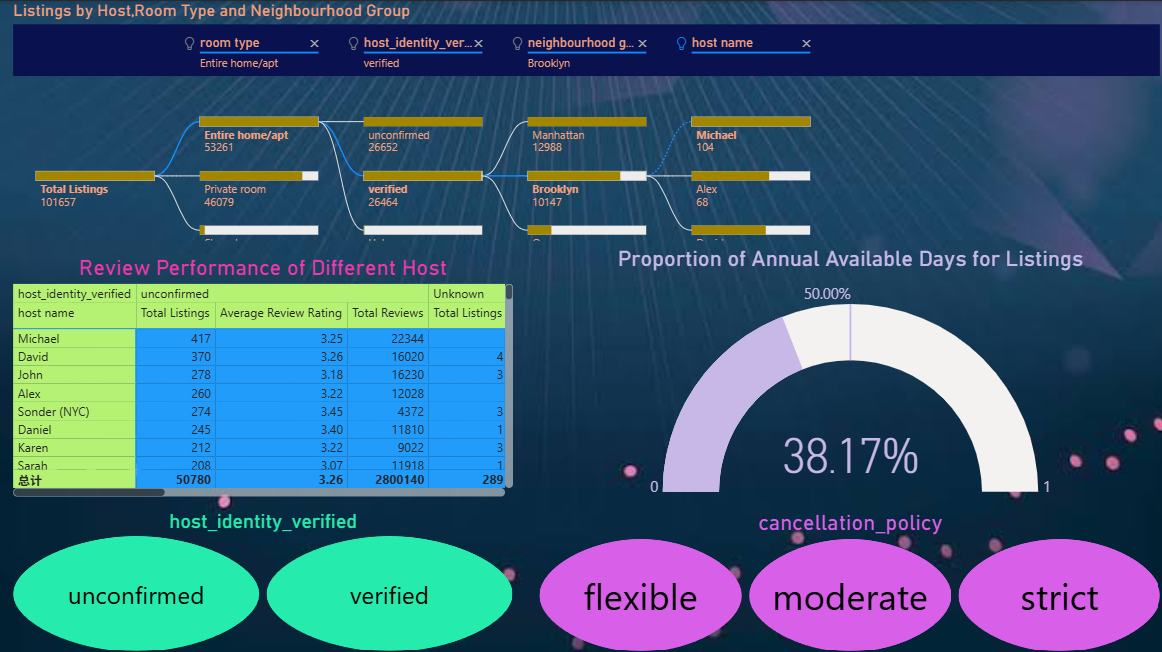

The page's visual inventory and layout, read from the dashboard file:
{"tool":"powerbi","page":{"name":"Host Performance & Bookings","canvas":[1280,720],"ordinal":3},"visuals":[{"type":"decompositionTreeVisual","title":"Listings by Host,Room Type and Neighbourhood Group","fields":{"Analyze":["FactListings.Total Listings"],"ExplainBy":["DimRoom.room type","DimHost.host_identity_verified","DimLocation.neighbourhood group","DimHost.host name"]},"box":[10,0,1270,268.6],"z":0},{"type":"pivotTable","title":"Review Performance of Different Host","fields":{"Rows":["DimHost.host name"],"Columns":["DimHost.host_identity_verified"],"Values":["FactListings.Total Listings","FactListings.Average Review Rating","FactListings.Total Reviews"]},"box":[9.6,278.6,558.5,270.3],"z":1000},{"type":"gauge","title":"Proportion of Annual Available Days for Listings","fields":{"Y":["FactListings.Availability Rate"],"MinValue":["FactListings.0"],"MaxValue":["FactListings.1"],"TargetValue":["FactListings.0.5"]},"box":[587.3,269,693,279.9],"z":2000},{"type":"advancedSlicerVisual","fields":{"Values":["DimHost.host_identity_verified"]},"box":[9.6,558.5,558.5,161.9],"z":3000},{"type":"advancedSlicerVisual","fields":{"Values":["DimPolicy.cancellation_policy"]},"box":[587.3,558.5,693,161.9],"z":4000}]}

Visuals, with their boxes in screenshot pixels (x1, y1, x2, y2), scaled from the page's 1280x720 canvas onto the 1162x652 screenshot:
"Listings by Host,Room Type and Neighbourhood Group" decompositionTreeVisual: (left=9, top=0, right=1161, bottom=243)
"Review Performance of Different Host" pivotTable: (left=9, top=252, right=516, bottom=497)
"Proportion of Annual Available Days for Listings" gauge: (left=533, top=244, right=1161, bottom=497)
advancedSlicerVisual - DimHost.host_identity_verified: (left=9, top=506, right=516, bottom=651)
advancedSlicerVisual - DimPolicy.cancellation_policy: (left=533, top=506, right=1161, bottom=651)
